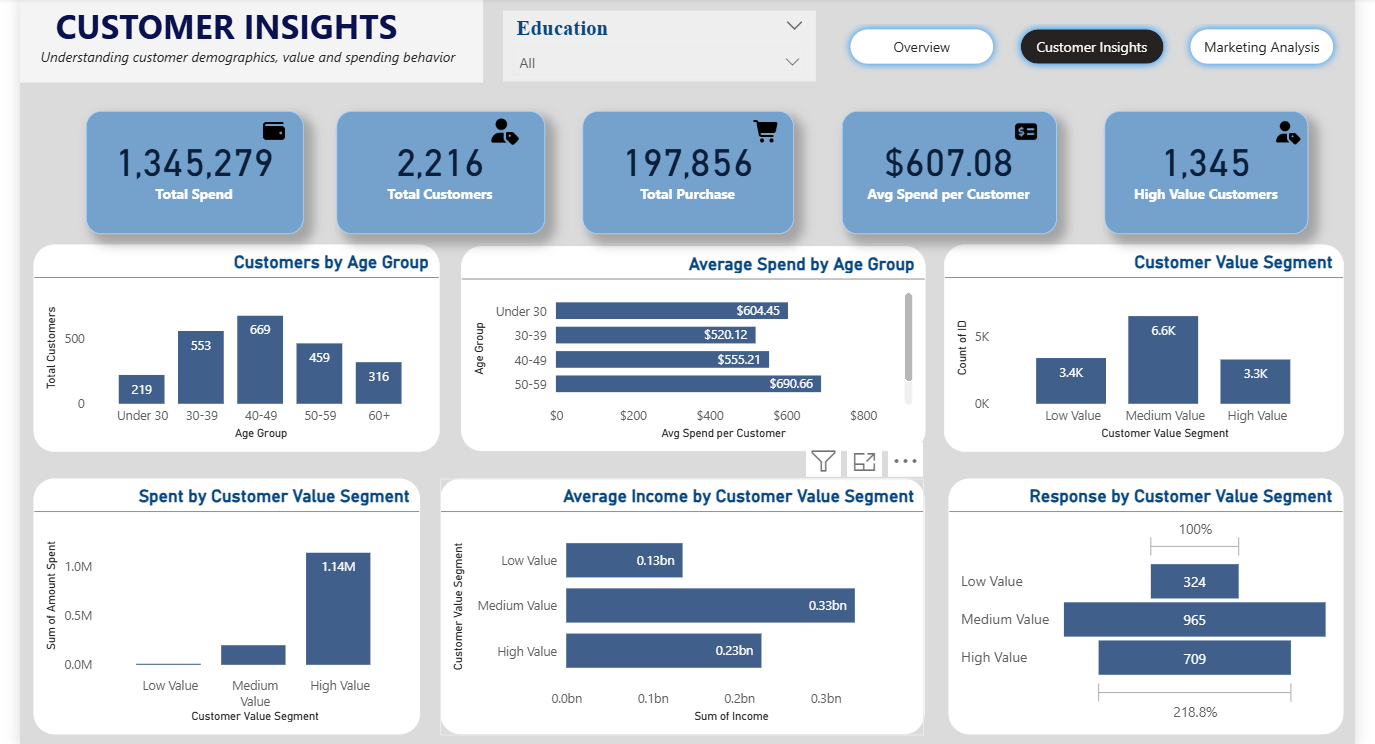

Layout of this report page (visuals, bound fields, positions):
{"tool":"powerbi","page":{"name":"Customer Insights","canvas":[1280,720],"ordinal":1},"visuals":[{"type":"pageNavigator","box":[787.4,22.7,481.5,50],"z":0},{"type":"textbox","box":[0,0,444.3,81.8],"z":1000},{"type":"columnChart","title":"Customers by Age Group","fields":{"Y":["Measures (2).Total Customers"],"Category":["marketing_data.Age Group"]},"box":[13.6,237.7,389.2,198.4],"z":2000},{"type":"clusteredBarChart","title":"Average Spend by Age Group","fields":{"Y":["Measures (2).Average Spend per Customer"],"Category":["marketing_data.Age Group"]},"box":[422.5,239.2,445.2,196.8],"z":3000},{"type":"clusteredColumnChart","title":"Customer Value Segment","fields":{"Category":["marketing_data.Customer Value Segment"],"Y":["CountNonNull(marketing_data.ID)"]},"box":[885.8,237.7,383.1,198.4],"z":4000},{"type":"clusteredColumnChart","title":"Spent by Customer Value Segment","fields":{"Category":["marketing_data.Customer Value Segment"],"Y":["Sum(marketing_data.Amount Spent)"]},"box":[13.6,461.8,371,245.3],"z":5000},{"type":"funnel","title":"Response by Customer Value Segment","fields":{"Category":["marketing_data.Customer Value Segment"],"Y":["Sum(marketing_data.Response)"]},"box":[890.4,461.8,378.6,245.3],"z":6000},{"type":"cardVisual","fields":{"Data":["Measures (2).Total Spend"]},"box":[63.6,109,209,118.1],"z":7000},{"type":"cardVisual","fields":{"Data":["Measures (2).Total Customers"]},"box":[302.8,109,199.9,118.1],"z":8000},{"type":"cardVisual","fields":{"Data":["Measures (2).Total Purchase"]},"box":[539.1,109,202.9,118.1],"z":9000},{"type":"cardVisual","fields":{"Data":["Measures (2).Average Spend per Customer"]},"box":[787.4,109,205.9,118.1],"z":10000},{"type":"cardVisual","fields":{"Data":["Measures (2).High Value Customers"]},"box":[1040.3,109,195.3,118.1],"z":11000},{"type":"image","box":[209,110.5,69.7,36.3],"z":12000},{"type":"image","box":[443.7,107.5,39.4,39.4],"z":13000},{"type":"image","box":[690.5,110.5,51.5,36.3],"z":14000},{"type":"image","box":[946.4,101.5,36.3,54.5],"z":15000},{"type":"image","box":[1194.7,110.5,40.9,36.3],"z":16000},{"type":"barChart","title":"Average  Income  by Customer Value Segment","fields":{"Category":["marketing_data.Customer Value Segment"],"Y":["Sum(marketing_data. Income )"]},"box":[402.8,461.8,464.9,245.3],"z":17000},{"type":"slicer","fields":{"Values":["marketing_data.Education"]},"box":[463.3,13.6,299.8,68.1],"z":18000}]}

Visuals, with their boxes on the page's 1280x720 design canvas (x1, y1, x2, y2). These are canvas units, not pixel positions in the 1375x744 screenshot, which may show the page scaled, cropped or inside an application window:
pageNavigator: 787/23/1269/73
textbox: 0/0/444/82
"Customers by Age Group" columnChart: 14/238/403/436
"Average Spend by Age Group" clusteredBarChart: 422/239/868/436
"Customer Value Segment" clusteredColumnChart: 886/238/1269/436
"Spent by Customer Value Segment" clusteredColumnChart: 14/462/385/707
"Response by Customer Value Segment" funnel: 890/462/1269/707
cardVisual - Measures (2).Total Spend: 64/109/273/227
cardVisual - Measures (2).Total Customers: 303/109/503/227
cardVisual - Measures (2).Total Purchase: 539/109/742/227
cardVisual - Measures (2).Average Spend per Customer: 787/109/993/227
cardVisual - Measures (2).High Value Customers: 1040/109/1236/227
image: 209/110/279/147
image: 444/108/483/147
image: 690/110/742/147
image: 946/102/983/156
image: 1195/110/1236/147
"Average  Income  by Customer Value Segment" barChart: 403/462/868/707
slicer - marketing_data.Education: 463/14/763/82
